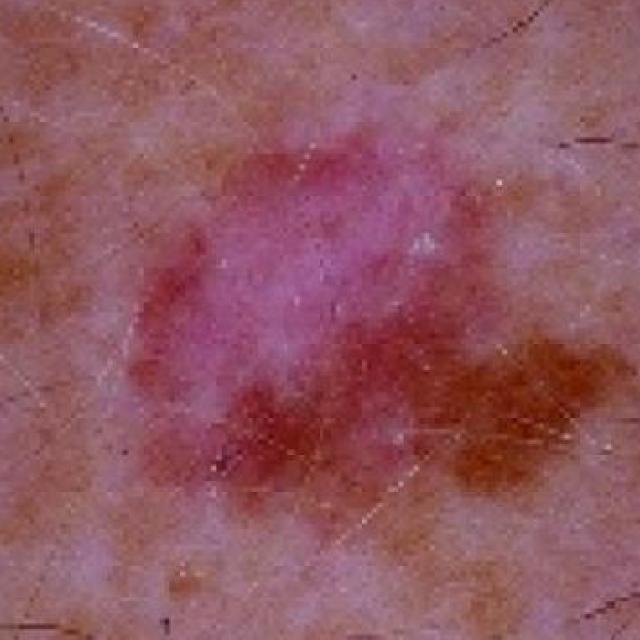MEL: (100, 96, 610, 544)
